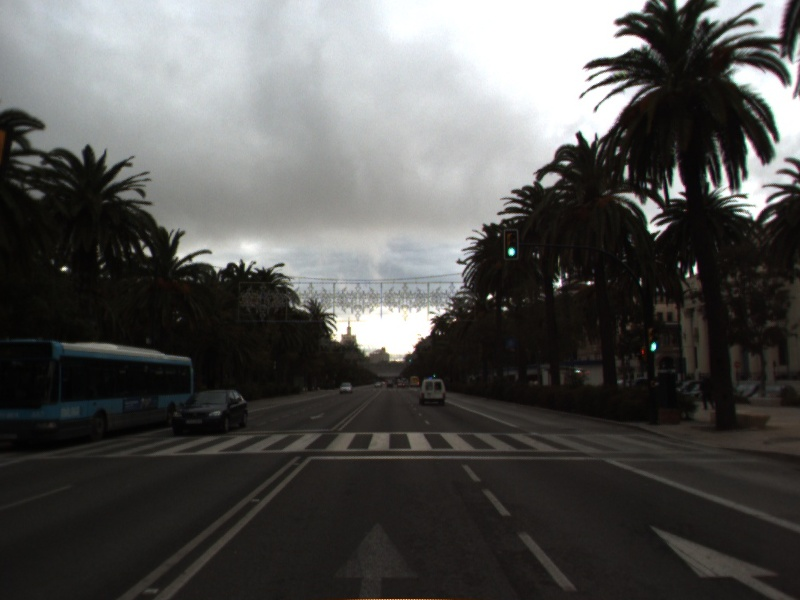STRAIGHT: (643, 521, 800, 600), (328, 516, 426, 600)
